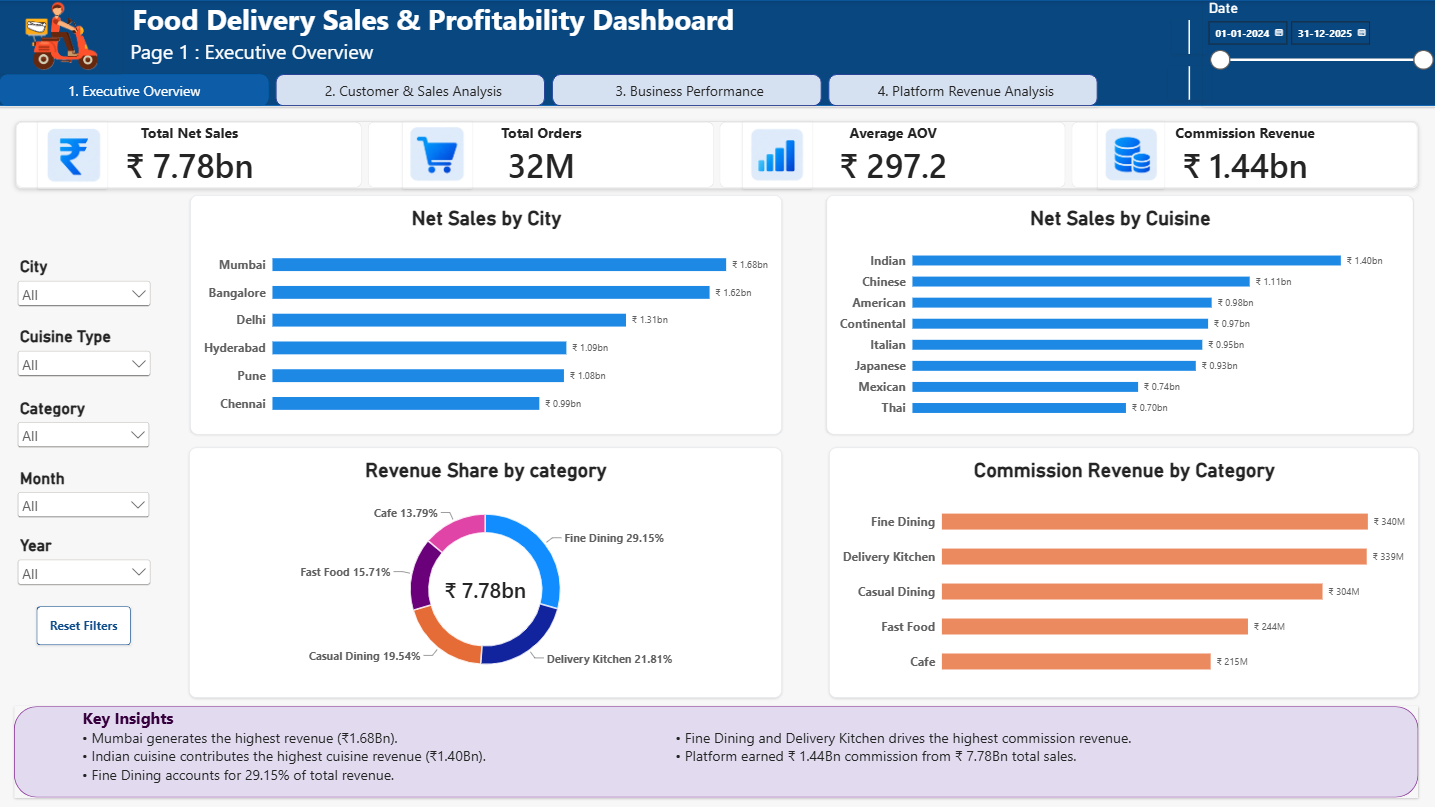

The page's visual inventory and layout, read from the dashboard file:
{"tool":"powerbi","page":{"name":"1. Executive Overview","canvas":[1920,1080],"ordinal":0},"visuals":[{"type":"clusteredBarChart","title":"Net Sales by City","fields":{"Category":["daily_sales.City"],"Y":["daily_sales.Total Net Sales"]},"box":[256,260,790,320],"z":0},{"type":"clusteredBarChart","title":"Net Sales by Cuisine","fields":{"Y":["daily_sales.Total Net Sales"],"Category":["daily_sales.Cuisine_Type"]},"box":[1106,260,784,320],"z":1000},{"type":"donutChart","title":"Revenue Share by category","fields":{"Y":["daily_sales.Total Net Sales"],"Category":["daily_sales.Category"]},"box":[254,598,792,334],"z":2000},{"type":"clusteredBarChart","title":"Commission Revenue by Category","fields":{"Y":["daily_sales.Commission Revenue"],"Category":["daily_sales.Category"]},"box":[1108,598,788,334],"z":3000},{"type":"shape","box":[0,0,1920,141.4],"z":4000},{"type":"textbox","box":[0,0,1920,142],"z":5000},{"type":"pageNavigator","box":[0,98,1468,44],"z":6000},{"type":"slicer","fields":{"Values":["daily_sales.Date"]},"box":[1608,0,312,142],"z":7000},{"type":"image","box":[0,0,164,98],"z":8000},{"type":"slicer","fields":{"Values":["daily_sales.City"]},"box":[20,344,187,94],"z":9000},{"type":"slicer","fields":{"Values":["daily_sales.Cuisine_Type"]},"box":[20,438,187,94],"z":10000},{"type":"slicer","fields":{"Values":["daily_sales.Month"]},"box":[20.2,625.8,185.9,93.9],"z":11000},{"type":"slicer","fields":{"Values":["daily_sales.Category"]},"box":[20.2,531.9,185.9,93.9],"z":12000},{"type":"slicer","fields":{"Values":["daily_sales.Year"]},"box":[20,716,187,94],"z":13000},{"type":"cardVisual","fields":{"Data":["daily_sales.Total Net Sales","daily_sales.Total Orders","daily_sales.Average AOV","daily_sales.Commission Revenue"]},"box":[22,162,1874,90],"z":14000},{"type":"image","box":[51.5,162,92,90.2],"z":15000},{"type":"image","box":[540,162,92,90],"z":16000},{"type":"image","box":[994,162,92,90],"z":17000},{"type":"image","box":[1468,162,88,90],"z":18000},{"type":"shape","box":[20,944,1876,122],"z":19000},{"type":"textbox","box":[22,944,1874,122],"z":20000},{"type":"shape","box":[1560.8,88.5,57.7,44.6],"z":21000},{"type":"shape","box":[1566,26,47.3,45.3],"z":22000},{"type":"actionButton","box":[49.7,809.8,126,52],"z":23000}]}

Visuals, with their boxes in screenshot pixels (x1, y1, x2, y2), scaled from the page's 1920x1080 canvas onto the 1435x807 screenshot:
"Net Sales by City" clusteredBarChart: left=191, top=194, right=782, bottom=433
"Net Sales by Cuisine" clusteredBarChart: left=827, top=194, right=1413, bottom=433
"Revenue Share by category" donutChart: left=190, top=447, right=782, bottom=696
"Commission Revenue by Category" clusteredBarChart: left=828, top=447, right=1417, bottom=696
shape: left=0, top=0, right=1434, bottom=106
textbox: left=0, top=0, right=1434, bottom=106
pageNavigator: left=0, top=73, right=1097, bottom=106
slicer - daily_sales.Date: left=1202, top=0, right=1434, bottom=106
image: left=0, top=0, right=123, bottom=73
slicer - daily_sales.City: left=15, top=257, right=155, bottom=327
slicer - daily_sales.Cuisine_Type: left=15, top=327, right=155, bottom=398
slicer - daily_sales.Month: left=15, top=468, right=154, bottom=538
slicer - daily_sales.Category: left=15, top=397, right=154, bottom=468
slicer - daily_sales.Year: left=15, top=535, right=155, bottom=605
cardVisual - daily_sales.Total Net Sales x daily_sales.Total Orders: left=16, top=121, right=1417, bottom=188
image: left=38, top=121, right=107, bottom=188
image: left=404, top=121, right=472, bottom=188
image: left=743, top=121, right=812, bottom=188
image: left=1097, top=121, right=1163, bottom=188
shape: left=15, top=705, right=1417, bottom=797
textbox: left=16, top=705, right=1417, bottom=797
shape: left=1167, top=66, right=1210, bottom=99
shape: left=1170, top=19, right=1206, bottom=53
actionButton: left=37, top=605, right=131, bottom=644
